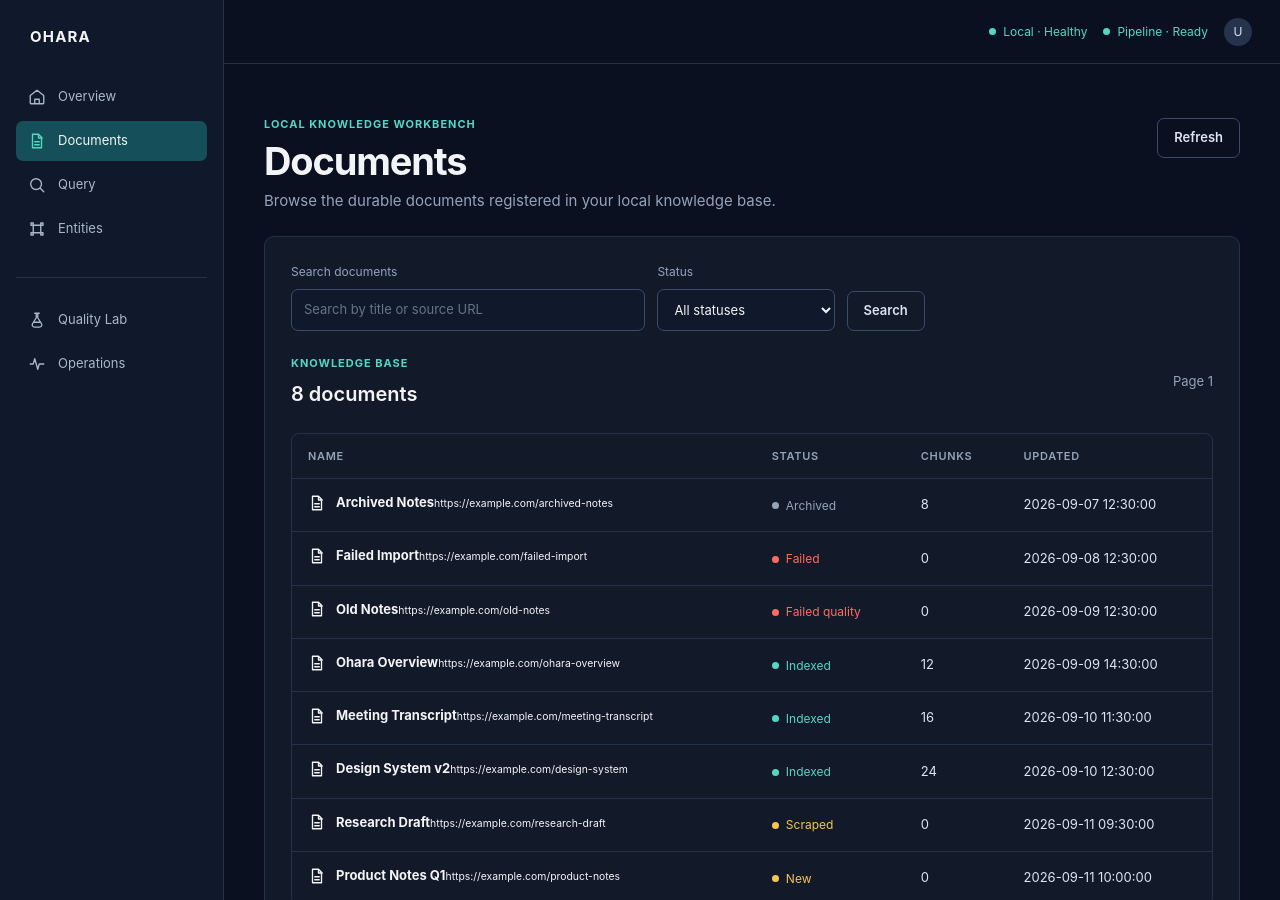
Test: App shell › does not fetch documents while search text is being edited
Click the link "Documents".
click(112, 140)  # box [16,120,207,160]
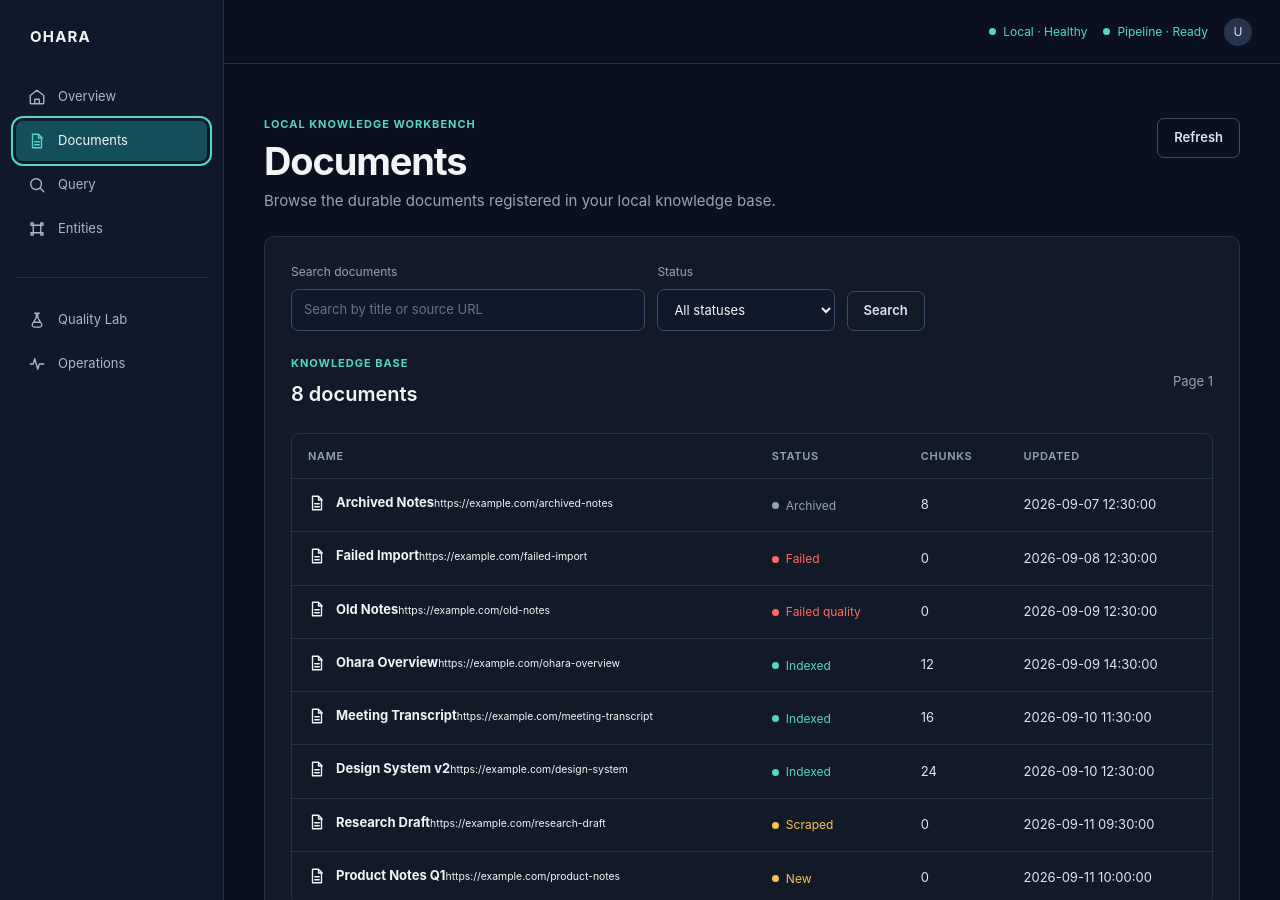
Expected: the heading "8 documents" is shown, [291,378,417,408]
Type "research" into the field labelled "Search documents".
click(468, 310); type("research")  # box [291,289,645,331]
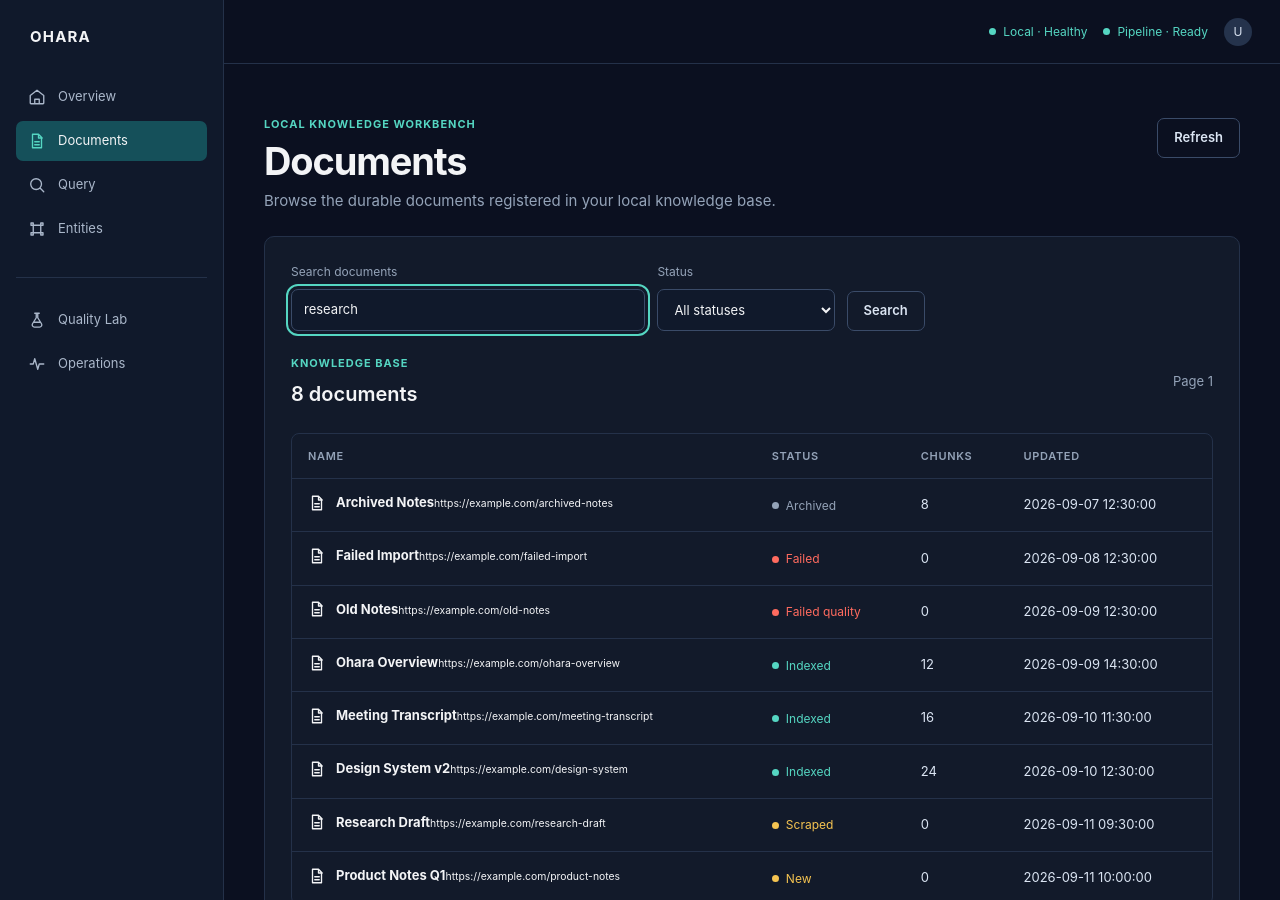
Click the button "Search".
click(886, 311)  # box [847,291,925,331]
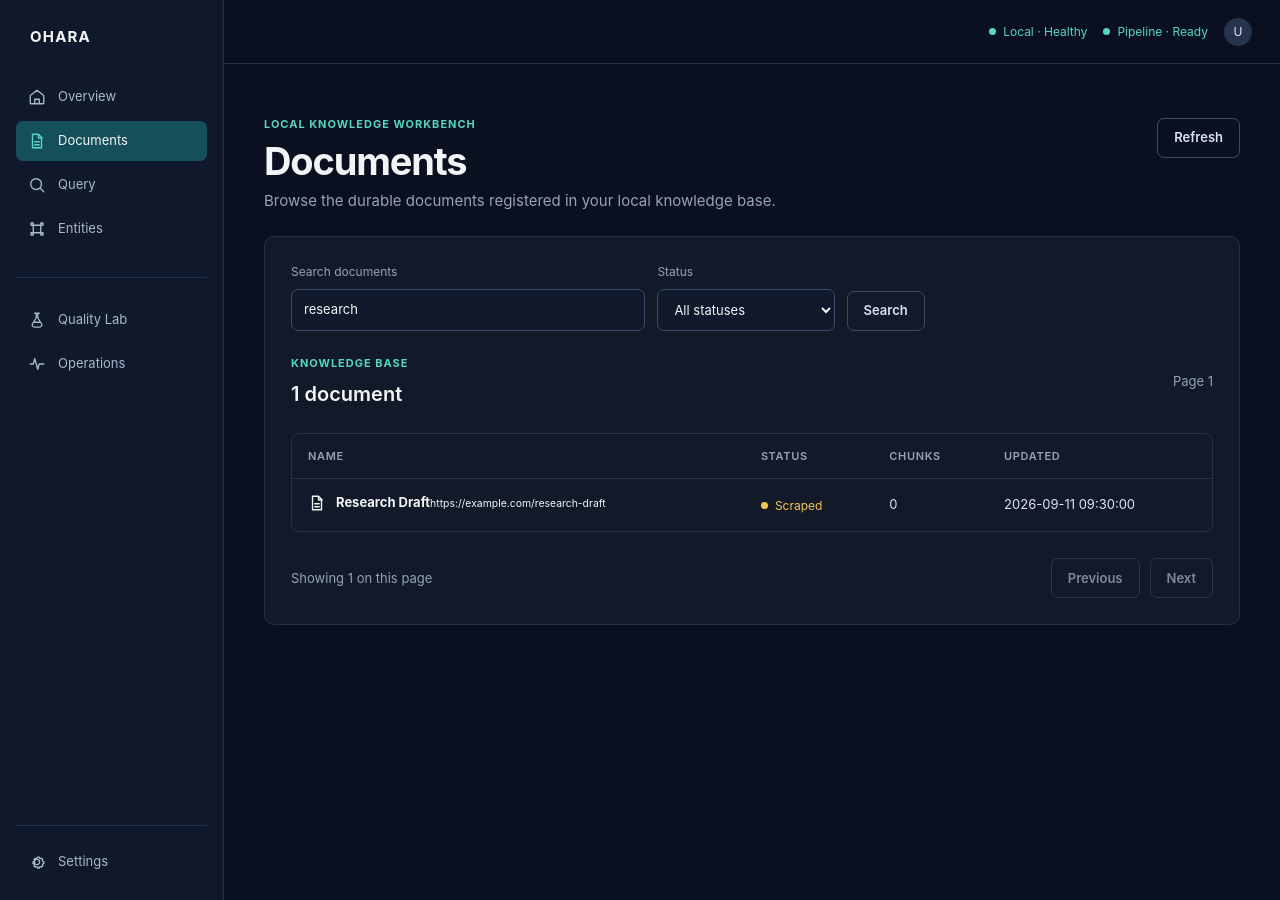
Expected: the heading "1 document" is shown, [291,378,408,408]
